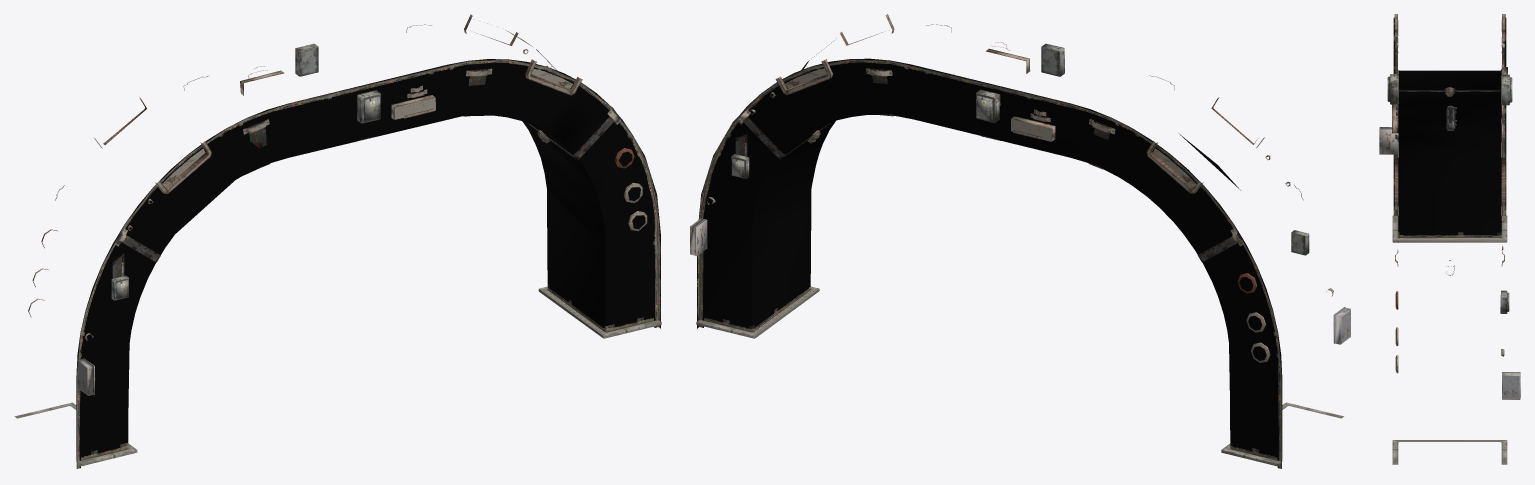
File: train_tunnel_double_transition_wall_a.glb
The picture shows the model from 3 angles, left to right: view 1: azimuth 30°, elevation 25°; view 2: azimuth 150°, elevation 25°; view 3: azimuth 270°, elevation 25°; orthographic projection. The views are drawn at different scales.
Parts seen in each view (by area): view 1: train_tunnel_double_transition_wall_a_LOD0; view 2: train_tunnel_double_transition_wall_a_LOD0; view 3: train_tunnel_double_transition_wall_a_LOD0, FluorescentLight_LOD0.
Boxes of the visible parts, x1,y1,x2,y2 form: train_tunnel_double_transition_wall_a_LOD0: [14, 14, 661, 468]; train_tunnel_double_transition_wall_a_LOD0: [690, 14, 1350, 468]; train_tunnel_double_transition_wall_a_LOD0: [1379, 14, 1520, 464]; FluorescentLight_LOD0: [1446, 105, 1456, 130].
Size of the model in its own units: 16.5 by 8.5 by 3.96.
Materials: 8 (8 with a texture image).
